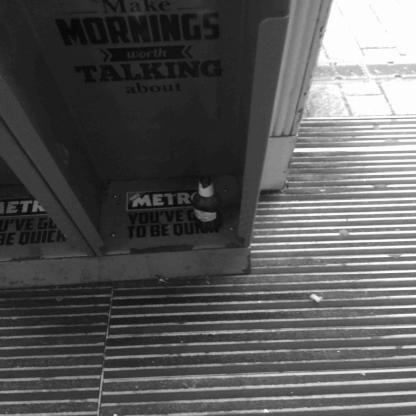glass: (189, 177, 220, 231)
